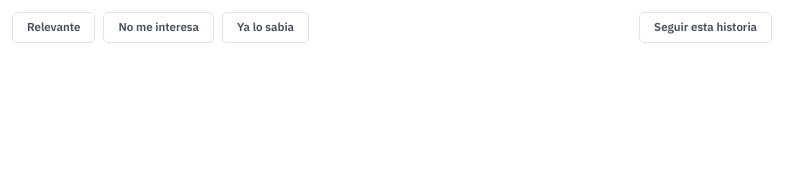
Test: StoryFeedback › tracks feedback_submitted with the right feedback_type and replaces the buttons with a confirmation
Click the button "No me interesa" at x=159, y=27, box [103, 12, 214, 43]
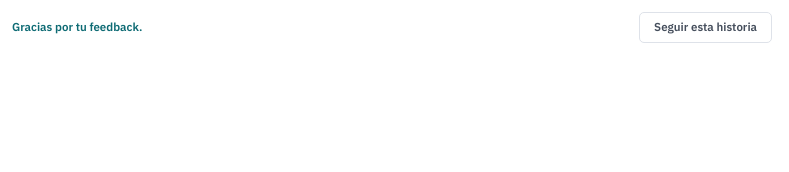
Now the text "Gracias por tu feedback." is shown, box [12, 19, 142, 36]
Now the button "Relevante" is gone
